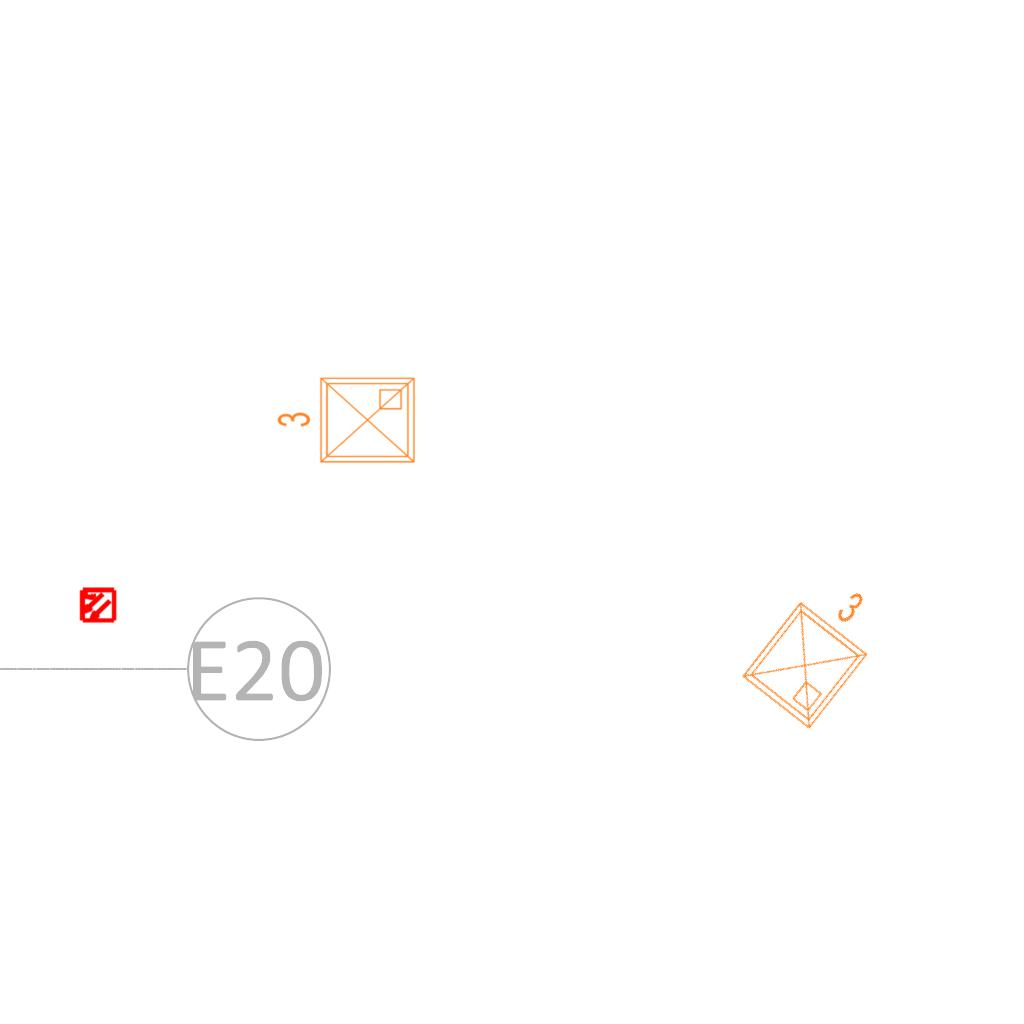Einbaudownlights_LED_Konferenzraeume: (728, 556, 904, 740), (272, 370, 422, 474)
OT_Multisensormelder_(Kombination_RMO_WMD): (69, 577, 125, 633)
